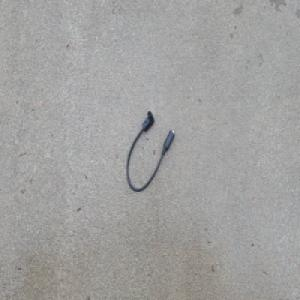Wire: (125, 108, 175, 193)
